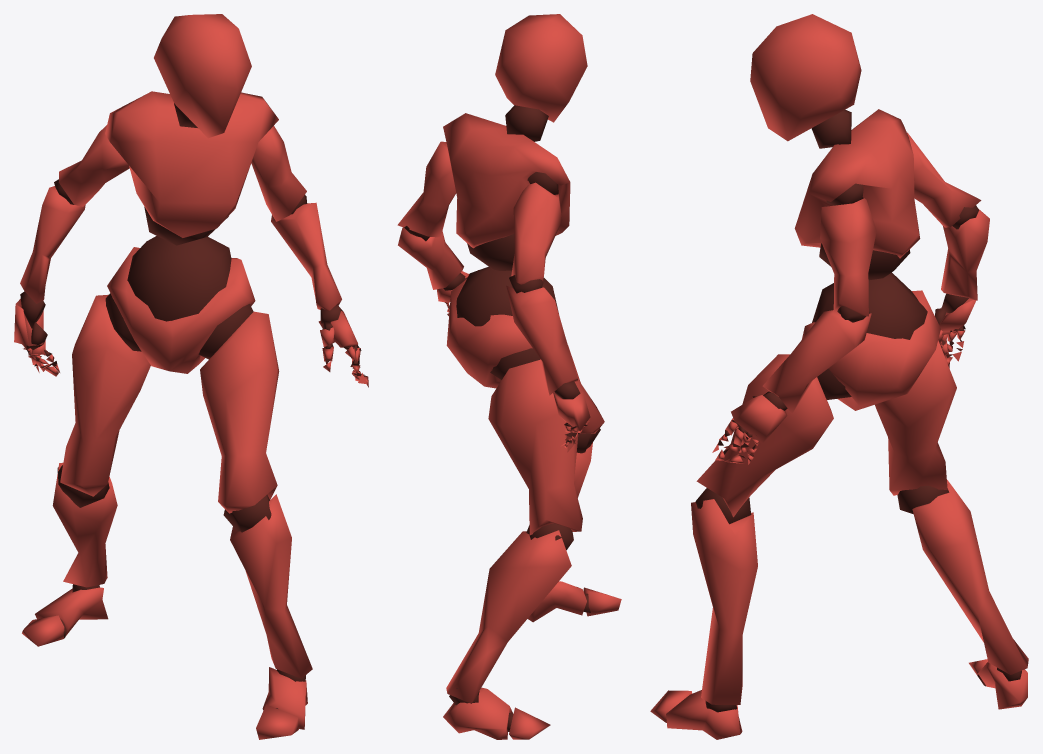
3 views of the same model, side by side, from view 1: azimuth 30°, elevation 25°; view 2: azimuth 150°, elevation 25°; view 3: azimuth 270°, elevation 25° (orthographic). The views are drawn at different scales.
Visible parts, largest first — view 1: Beta_Surface; view 2: Beta_Surface; view 3: Beta_Surface.
Part boxes in pixels (left/top/right/bottom): Beta_Surface: left=14, top=14, right=368, bottom=739; Beta_Surface: left=397, top=14, right=621, bottom=739; Beta_Surface: left=650, top=14, right=1028, bottom=739.
Bounding box in the file's own units: 5.55 × 14.58 × 7.2.
